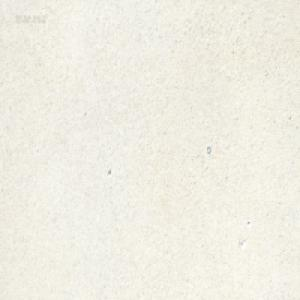Washer: (206, 144, 211, 154)
